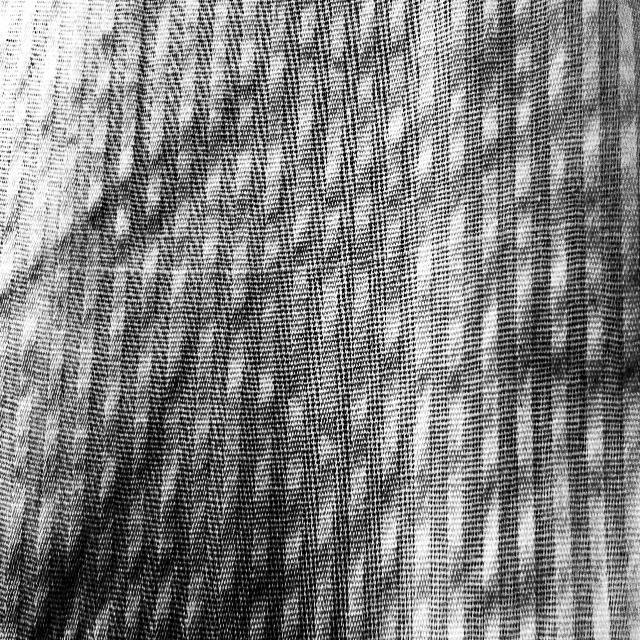Foreign_yarn: (60, 208, 617, 314)
